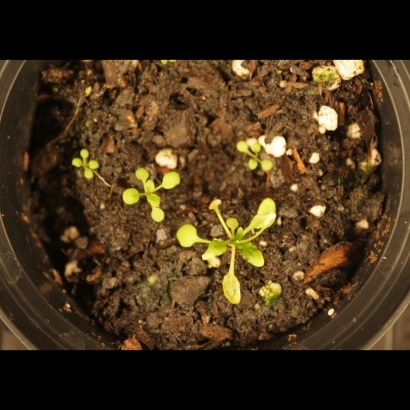leaf: (251, 194, 280, 236), (217, 267, 246, 307), (172, 216, 201, 252), (236, 241, 268, 270), (206, 236, 232, 259), (73, 137, 96, 160), (58, 154, 81, 177), (72, 171, 95, 194), (89, 147, 112, 170), (159, 168, 182, 191), (118, 186, 141, 209), (126, 158, 149, 181), (146, 209, 169, 232), (135, 173, 158, 196), (146, 191, 169, 214), (229, 135, 252, 158), (262, 155, 285, 178), (254, 133, 277, 156), (236, 157, 259, 180), (223, 212, 246, 235), (201, 192, 224, 215)
